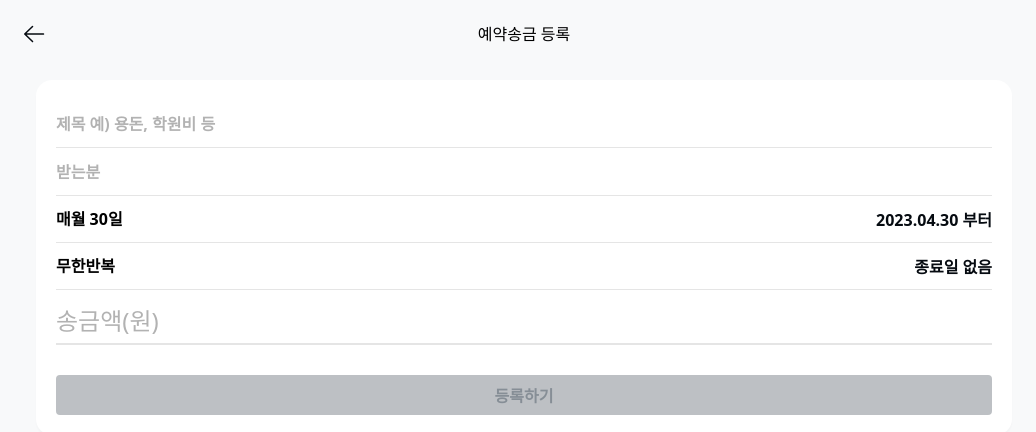
Test case: 송금등록화면 송금액 숫자입력
Expected: the navigation bar is shown, [12,12,1035,56]
Type "테스트" into the field with placeholder "송금액(원)" at [524, 320], box [56,297,992,343]
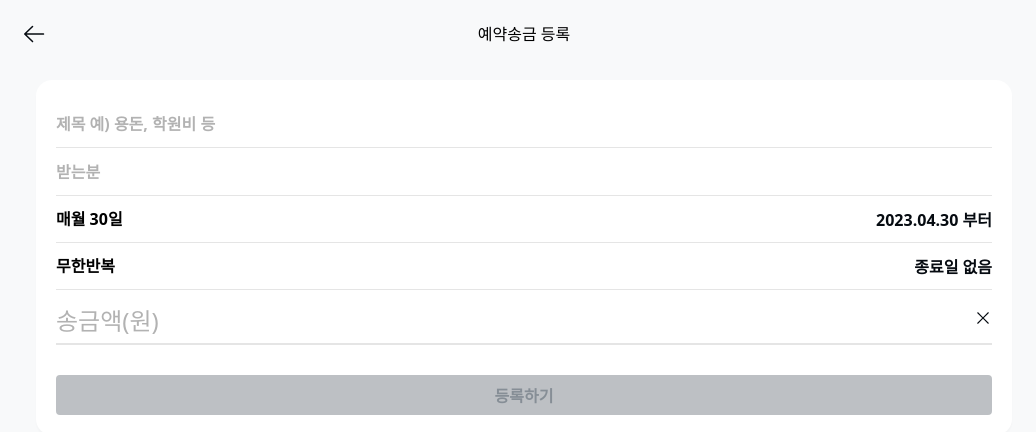
Type "10000" into the field with placeholder "송금액(원)" at [508, 320], box [56,297,960,343]
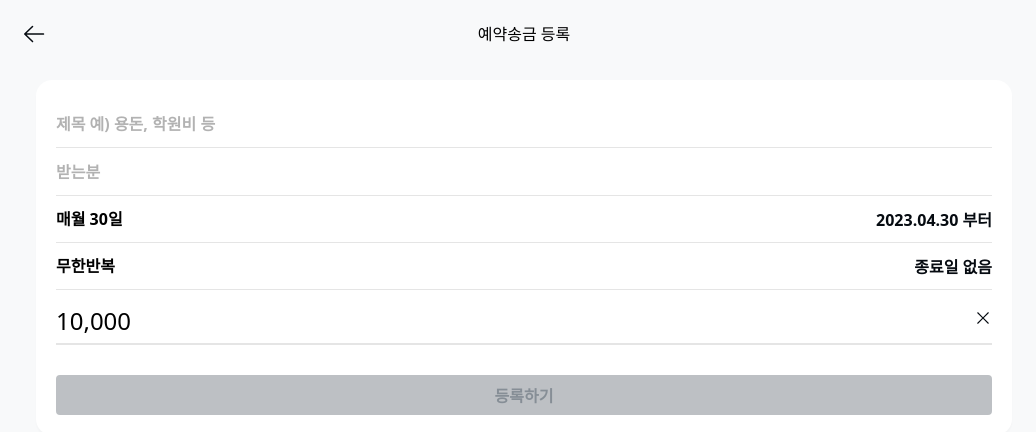
Expected: the field with placeholder "송금액(원)" holds "10,000", [56,297,960,343]
